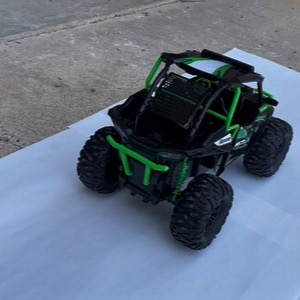polaris: (78, 50, 294, 250)
